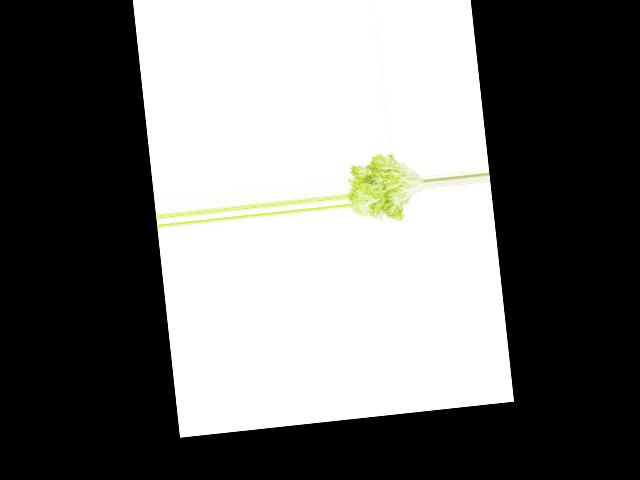lettuce: (343, 146, 429, 226)
